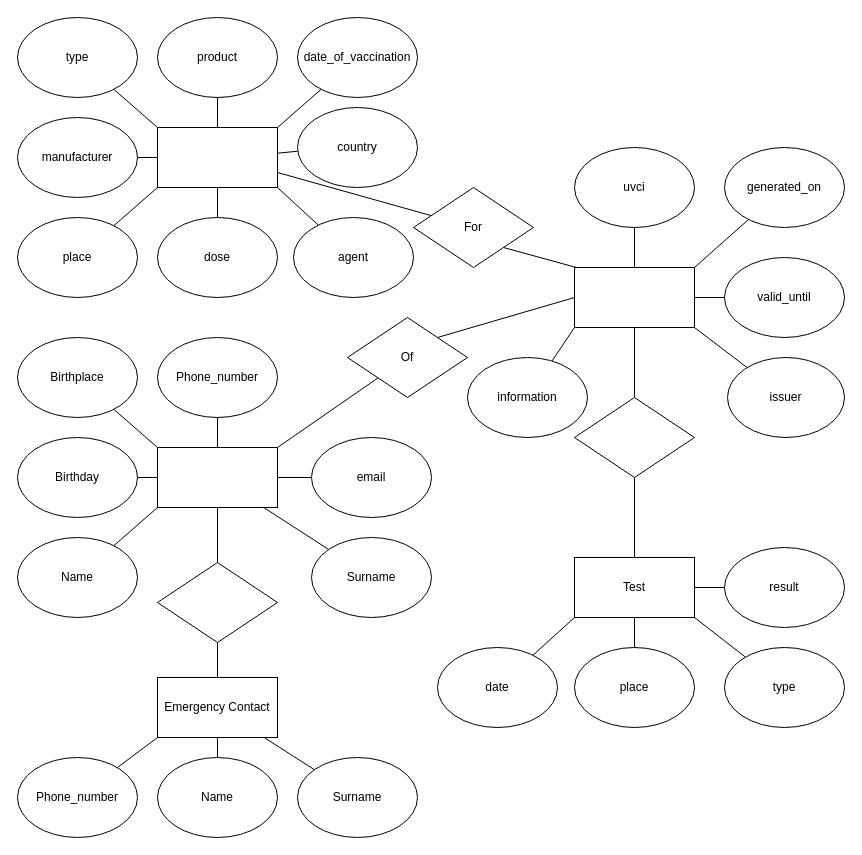
Image size: 862x855. Some labels were removed from this diagram. The shapes that lost their labels are listed below. From the top down, each one's centre as x and y in pixels, then its label:
At point (217, 157): "Vaccination".
At point (634, 297): "Certificate".
At point (634, 437): "For a".
At point (217, 477): "Person".
At point (217, 602): "Has".
